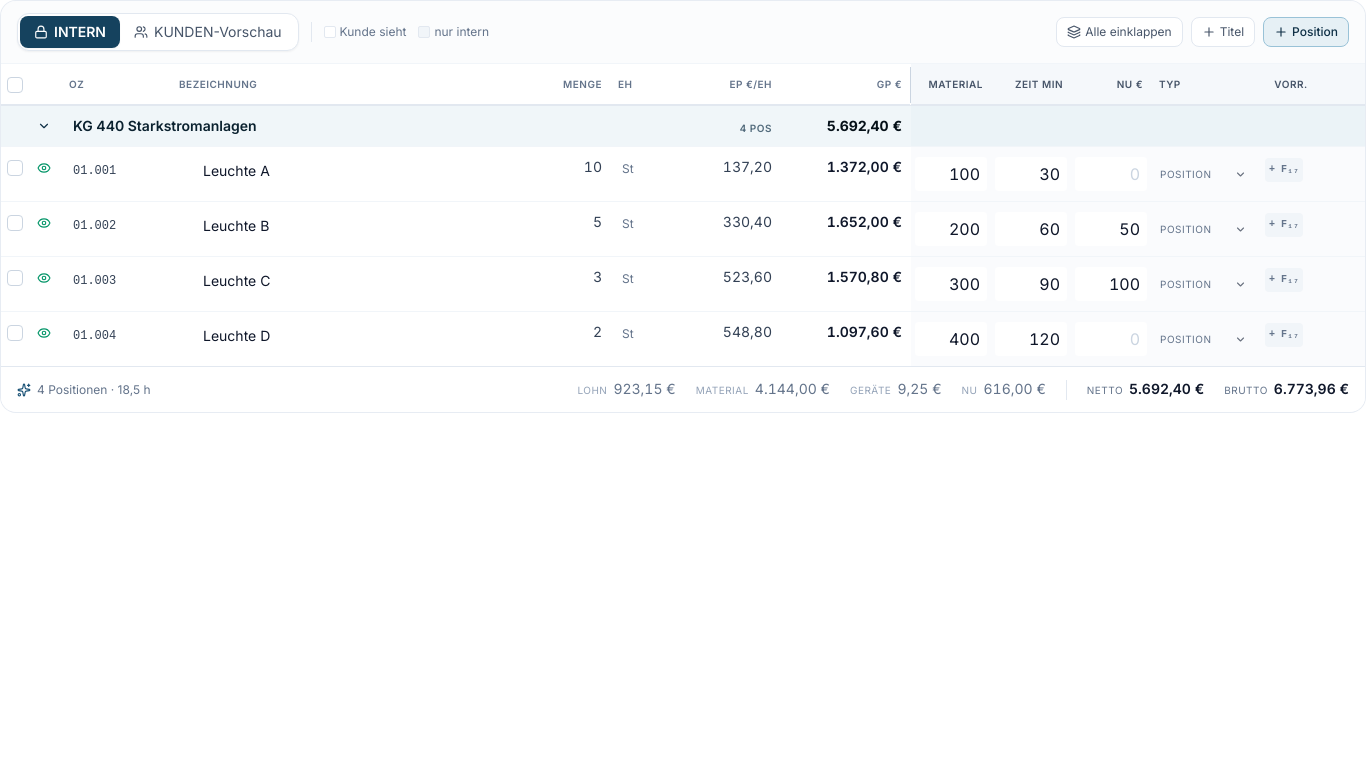
PositionTableV2 bulk-edit — selection mechanics › "select all" header checkbox shows indeterminate state for partial selection
The image size is (1366, 768).
// Select 2 of 4 → header checkbox should be indeterminate
Click the checkbox with test id "v2-select-row-r1" at (15, 168), box [7,160,23,176]
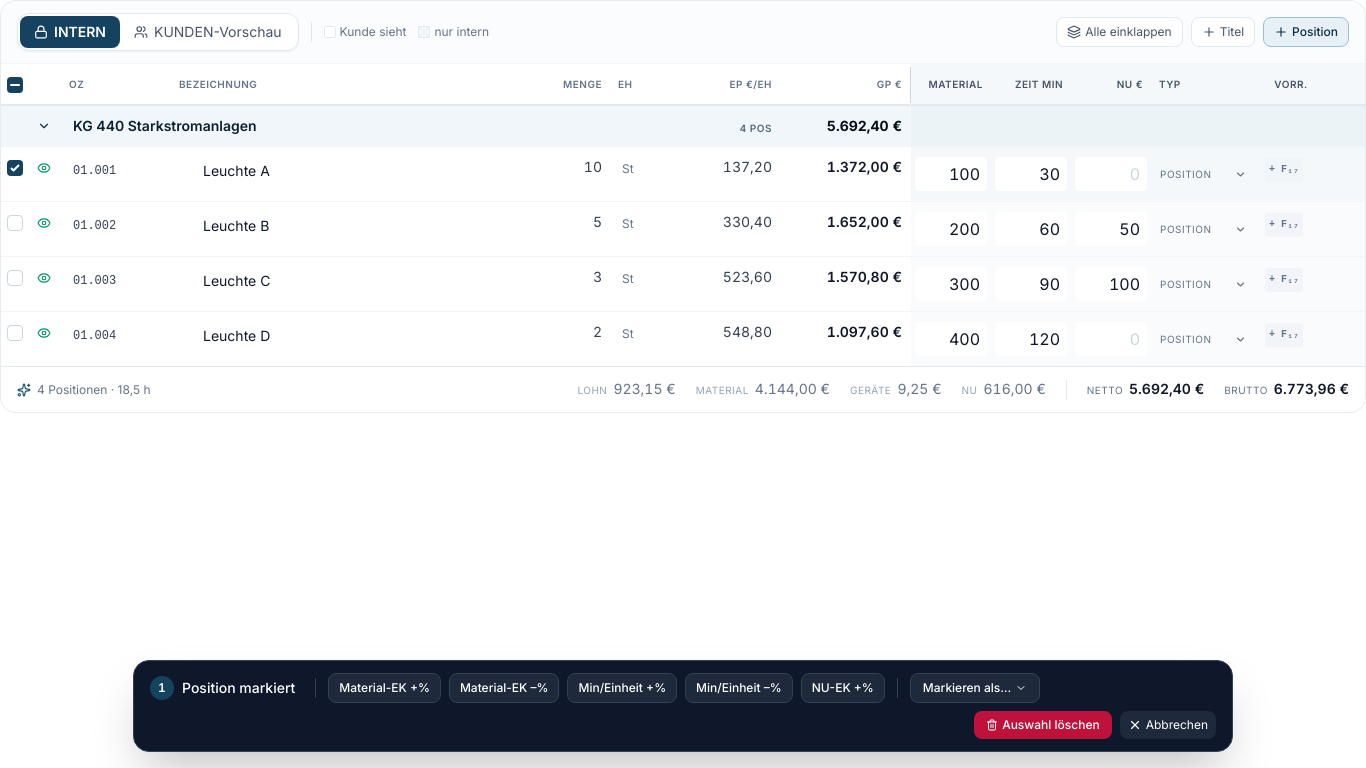
Click the checkbox with test id "v2-select-row-r2" at (15, 224), box [7,216,23,232]
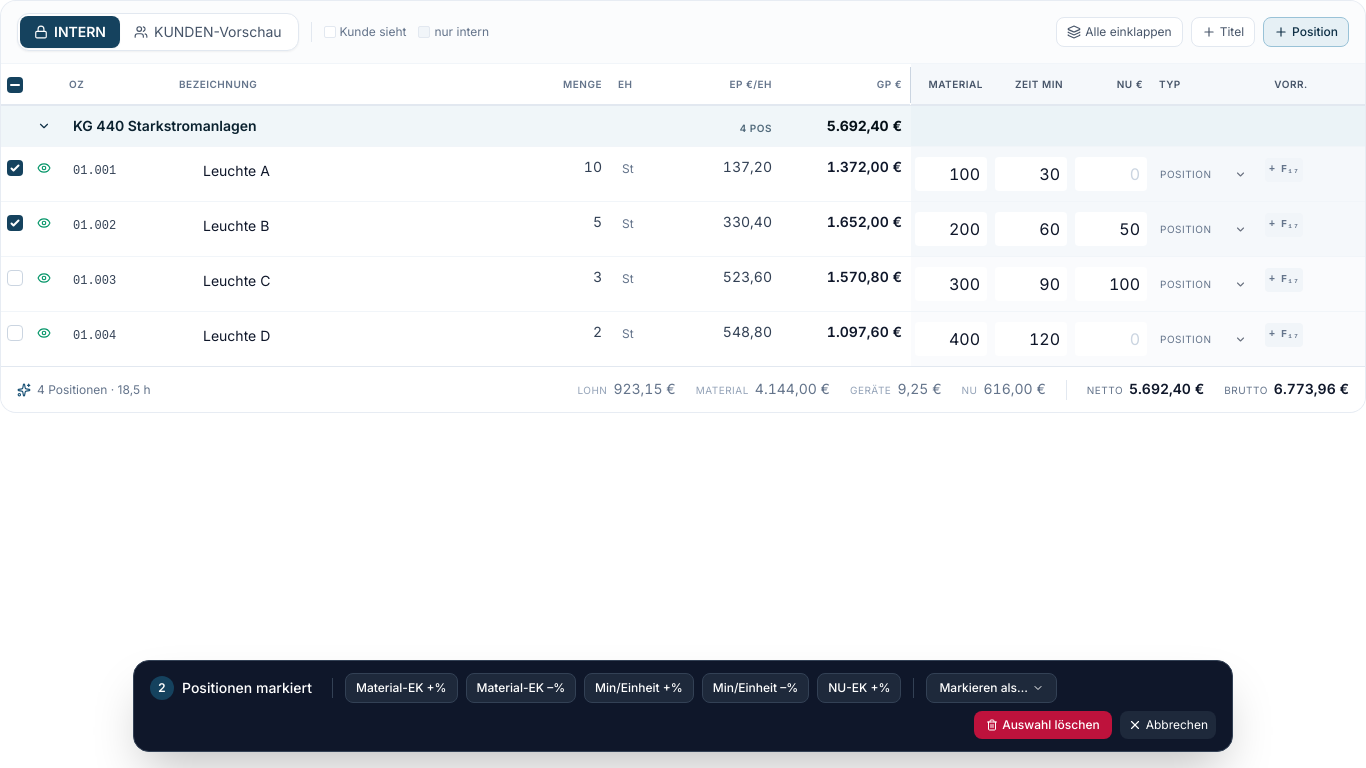
Expected: the checkbox with test id "v2-select-all" is not checked, [7,77,23,93]
Click the checkbox with test id "v2-select-row-r3" at (15, 278), box [7,270,23,286]
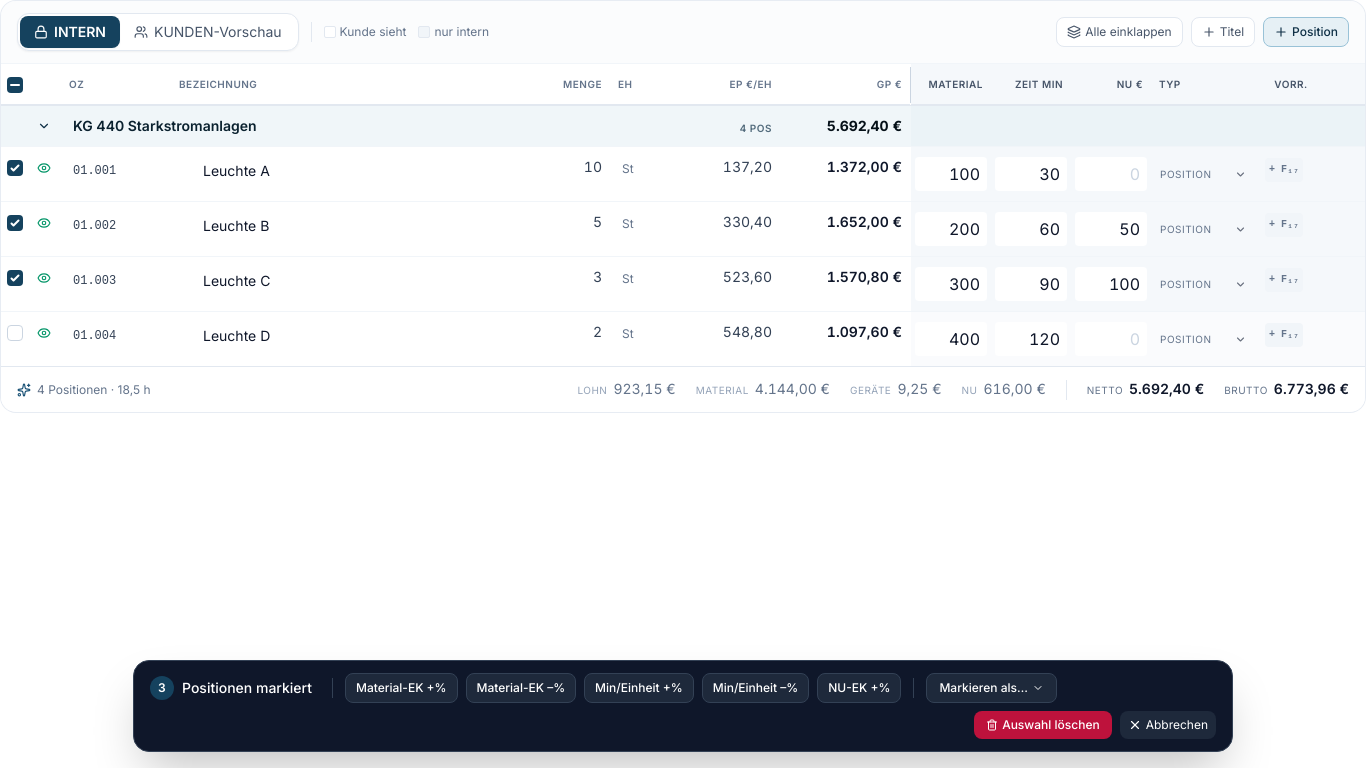
Click the checkbox with test id "v2-select-row-r4" at (15, 334), box [7,326,23,342]
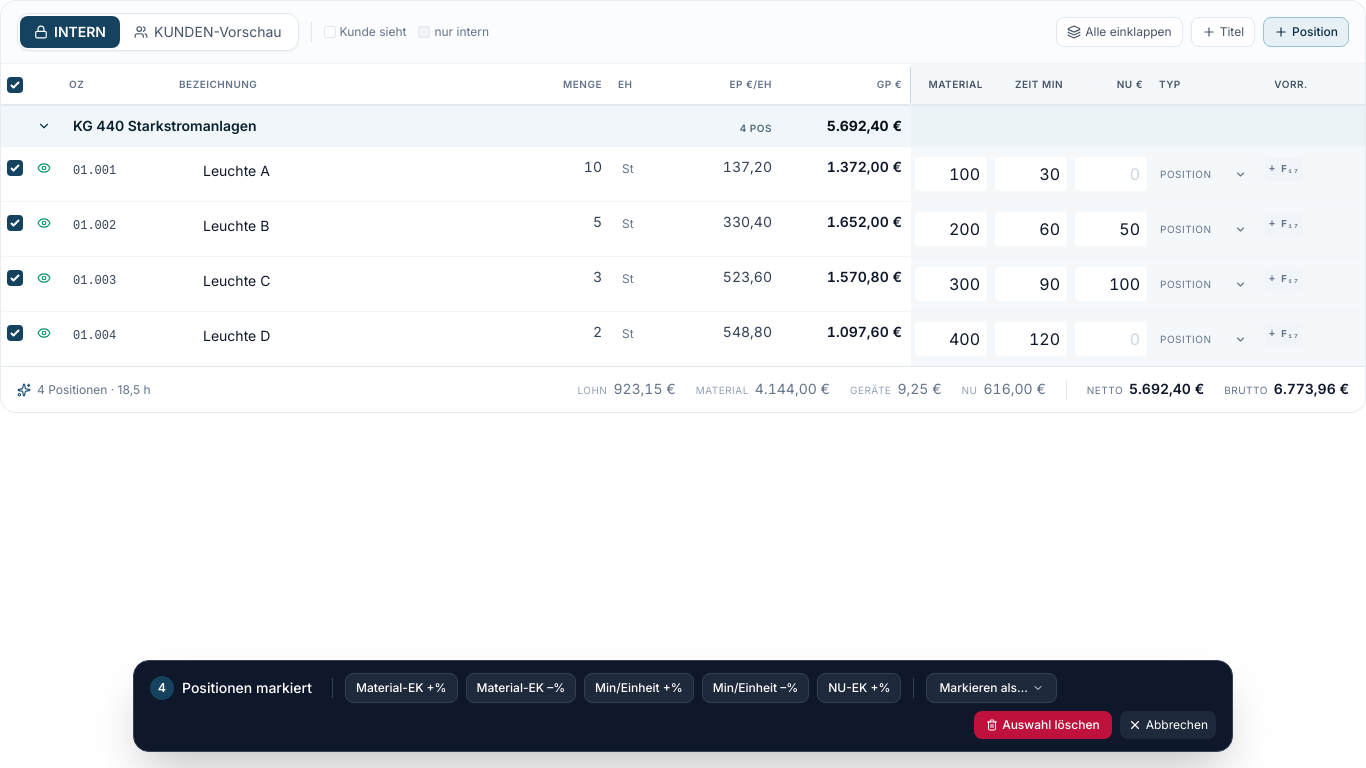
Result: the checkbox with test id "v2-select-all" is checked at [7,77,23,93]
